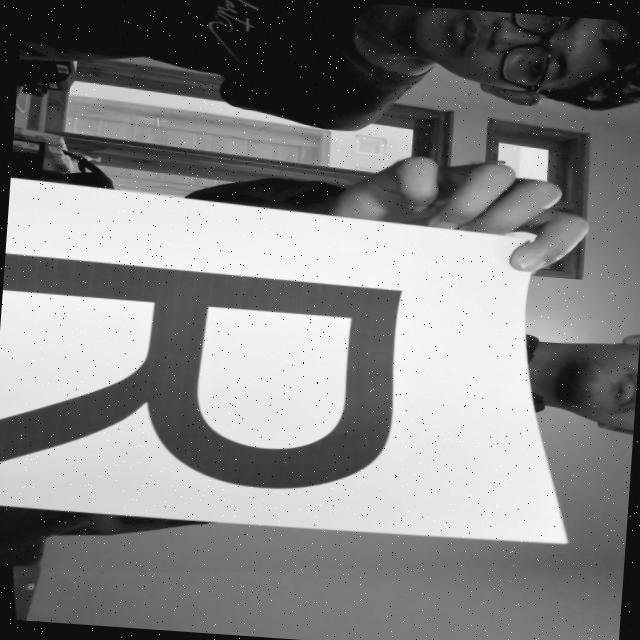r: (0, 241, 424, 522)
